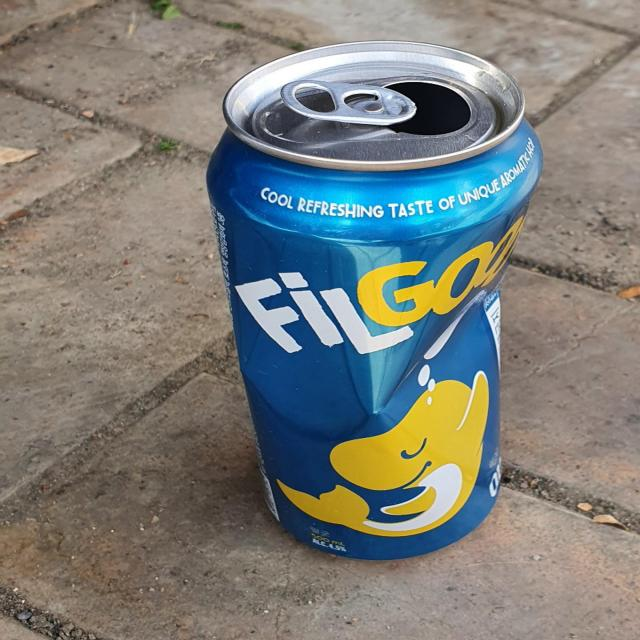can: (207, 41, 543, 561)
